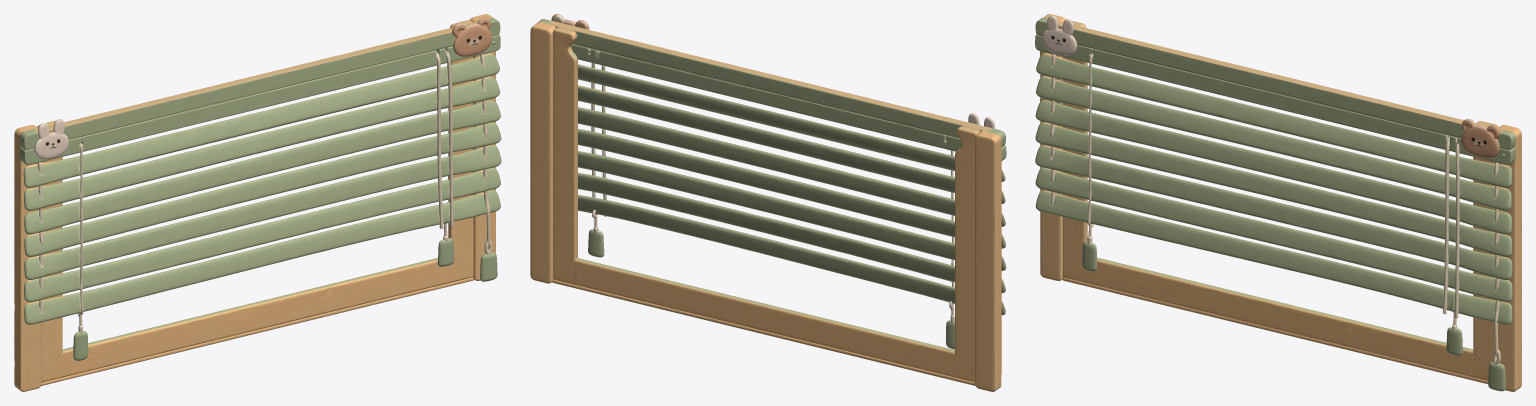
The model's file is window-blinds.glb.
3 views of the same model, side by side, from view 1: azimuth 30°, elevation 25°; view 2: azimuth 150°, elevation 25°; view 3: azimuth 330°, elevation 25° (orthographic). The views are drawn at different scales.
Size of the model in its own units: 1.9 by 1.03 by 0.1092.
Materials: 1 (1 with a texture image).
